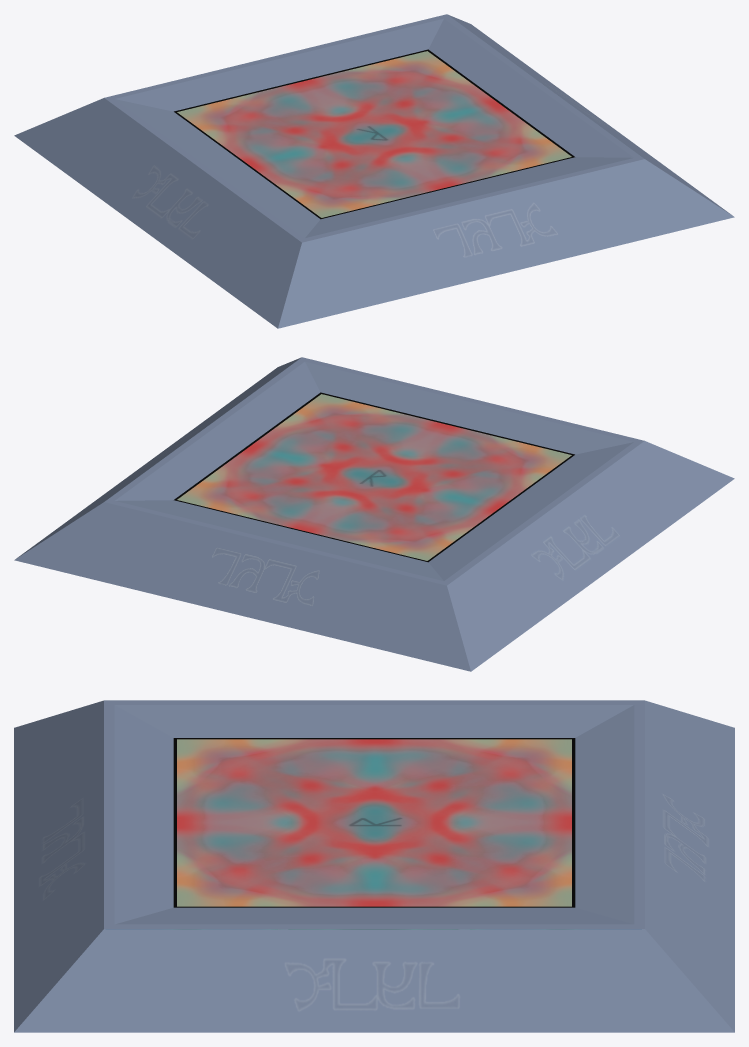
The model's file is StartPad.fbx.
3 views of the same model, one above another, from view 1: azimuth 30°, elevation 25°; view 2: azimuth 150°, elevation 25°; view 3: azimuth 270°, elevation 25° (orthographic). The views are drawn at different scales.
Visible parts, largest first — view 1: Pad; view 2: Pad; view 3: Pad.
Boxes of the visible parts, x1,y1,x2,y2 form: Pad: (14,14,734,328); Pad: (14,357,734,671); Pad: (14,700,734,1032).
Size of the model in its own units: 100 by 10.03 by 100.
